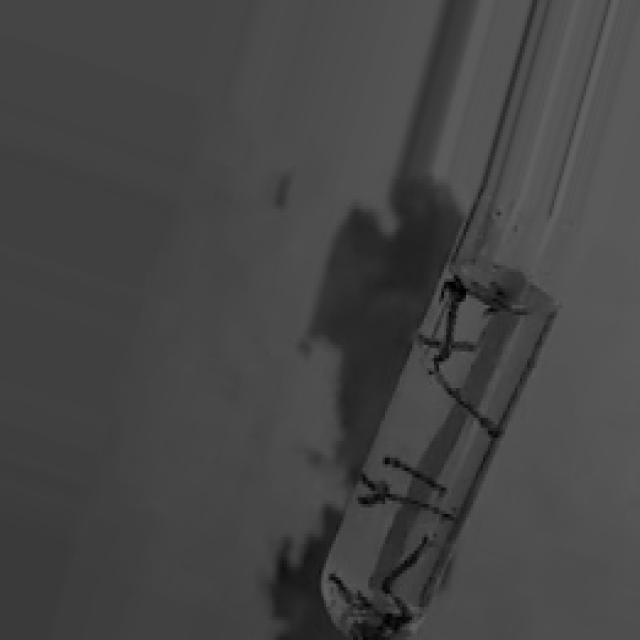larvas: (427, 366, 501, 443), (356, 491, 456, 523), (380, 535, 430, 595), (384, 453, 449, 497), (417, 334, 477, 354), (439, 301, 454, 362), (385, 597, 410, 623), (364, 476, 389, 491), (440, 276, 454, 301), (331, 574, 346, 596)
